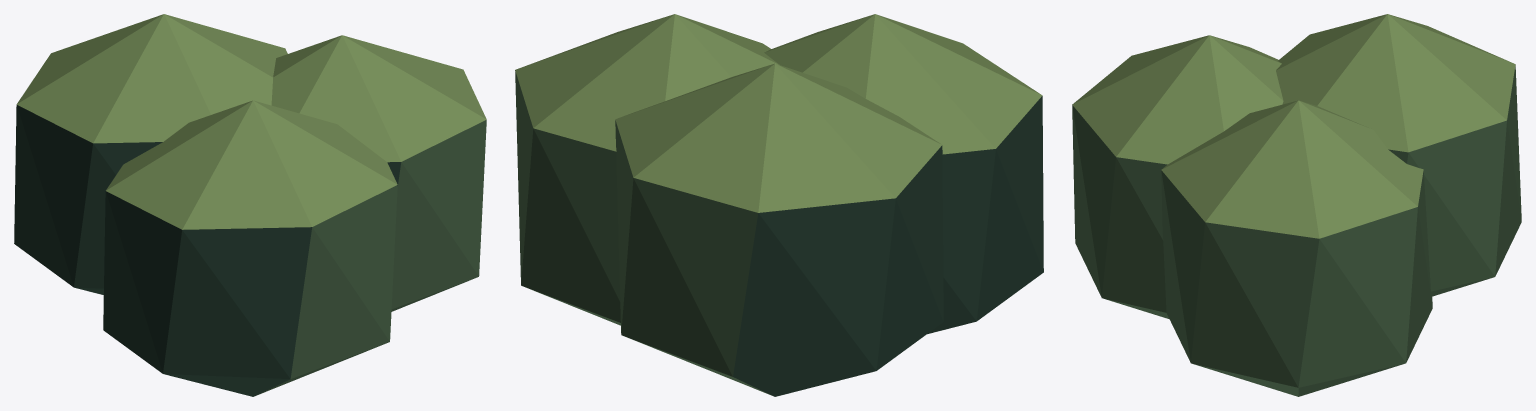
File: TW_VEG_BUSH_ROUND_A_LOD0.glb
3 renders of one model, left to right at view 1: azimuth 30°, elevation 25°; view 2: azimuth 150°, elevation 25°; view 3: azimuth 270°, elevation 25°, orthographic. The views are drawn at different scales.
Parts seen in each view (by area): view 1: TW_VEG_BUSH_ROUND_A_LOD0; view 2: TW_VEG_BUSH_ROUND_A_LOD0; view 3: TW_VEG_BUSH_ROUND_A_LOD0.
Part boxes in pixels (<box>): TW_VEG_BUSH_ROUND_A_LOD0: <box>14,14,486,396</box>; TW_VEG_BUSH_ROUND_A_LOD0: <box>515,14,1043,396</box>; TW_VEG_BUSH_ROUND_A_LOD0: <box>1072,14,1521,396</box>.
Bounding box in the file's own units: 0.9738 × 0.75 × 0.9618.
1 material, 1 textured.
